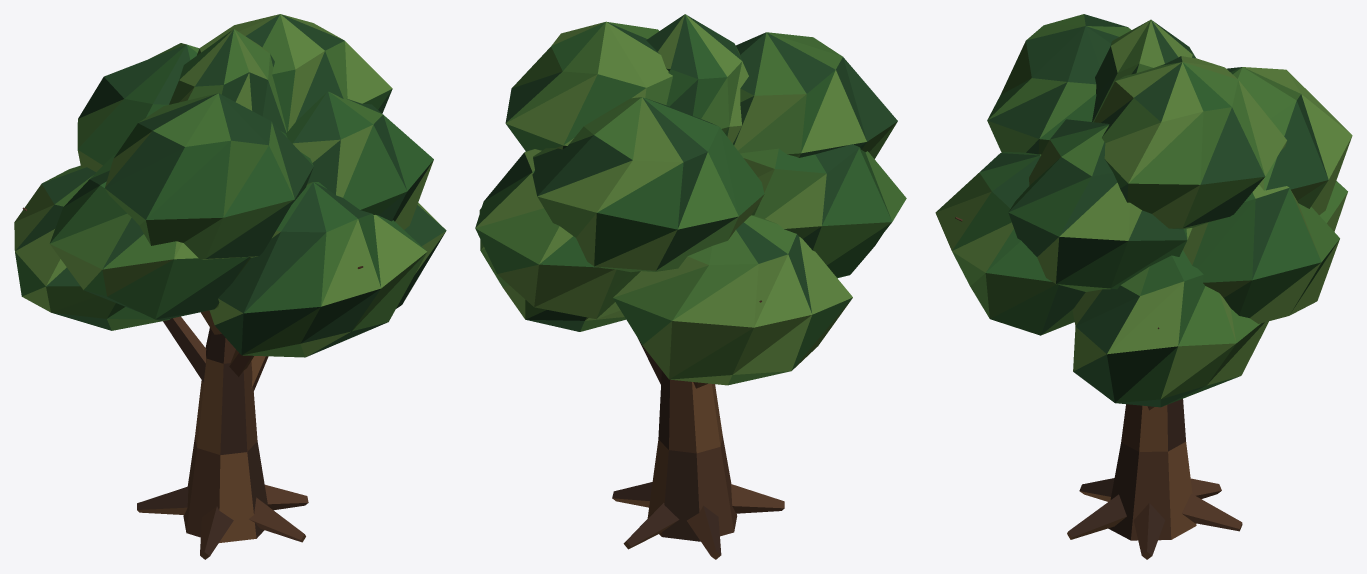
Rendered from tree_oak_sapling.obj.
3 views of the same model, side by side, from view 1: azimuth 30°, elevation 25°; view 2: azimuth 150°, elevation 25°; view 3: azimuth 270°, elevation 25° (orthographic). The views are drawn at different scales.
Parts seen in each view (by area): view 1: tree_oak_sapling; view 2: tree_oak_sapling; view 3: tree_oak_sapling.
Boxes of the visible parts, <box> form: tree_oak_sapling: <box>14,14,446,559</box>; tree_oak_sapling: <box>475,14,906,559</box>; tree_oak_sapling: <box>935,14,1352,559</box>.
Size of the model in its own units: 134 by 165 by 123.
Materials: 1 (1 with a texture image).
